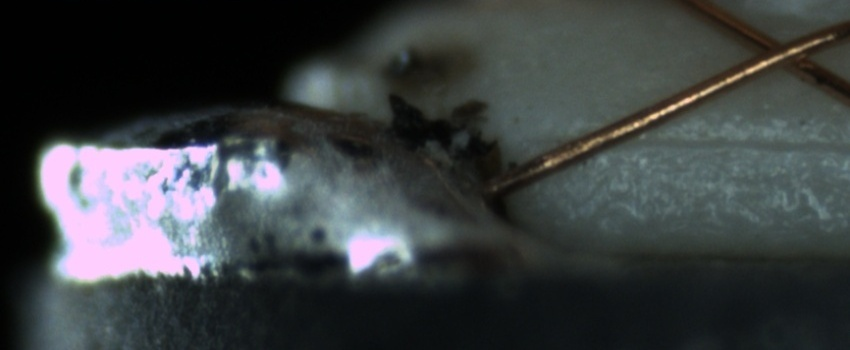CL: (733, 20, 840, 81)
DL: (565, 109, 844, 172)
